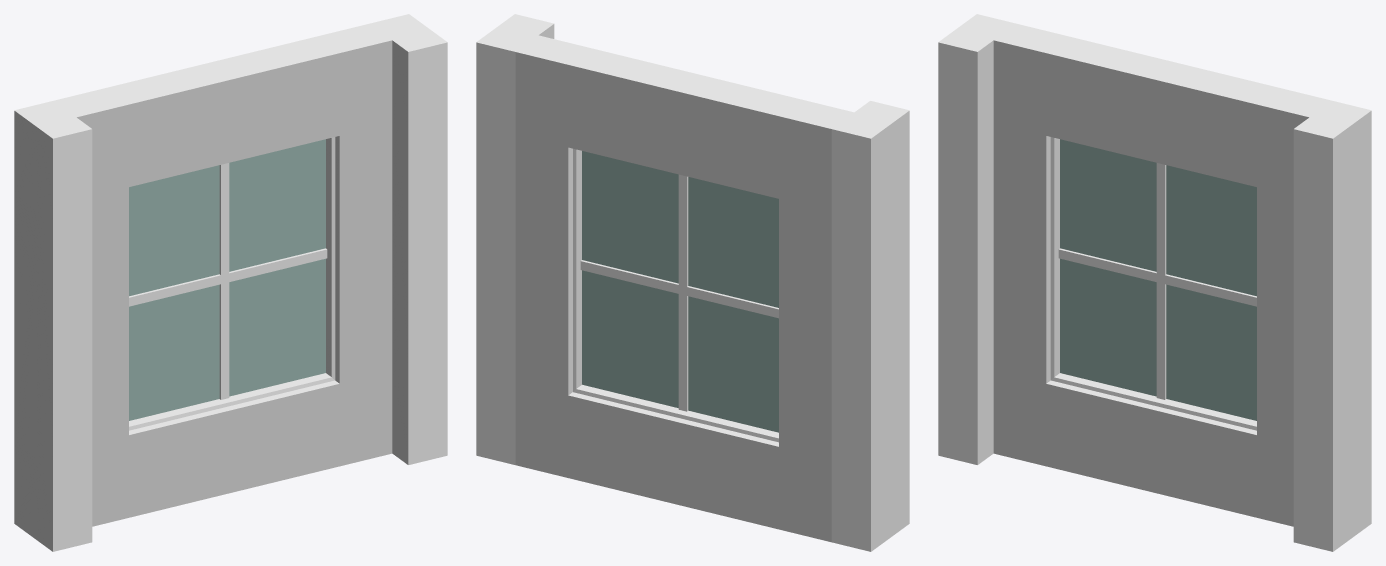
Rendered from Window.fbx.
The picture shows the model from 3 angles, left to right: view 1: azimuth 30°, elevation 25°; view 2: azimuth 150°, elevation 25°; view 3: azimuth 330°, elevation 25°; orthographic projection.
Parts seen in each view (by area): view 1: Window.001; view 2: Window.001; view 3: Window.001.
Boxes of the visible parts, bbox=[...] form: Window.001: bbox=[14, 14, 447, 551]; Window.001: bbox=[476, 14, 909, 551]; Window.001: bbox=[938, 14, 1371, 551].
Bounding box in the file's own units: 500 × 500 × 85.
